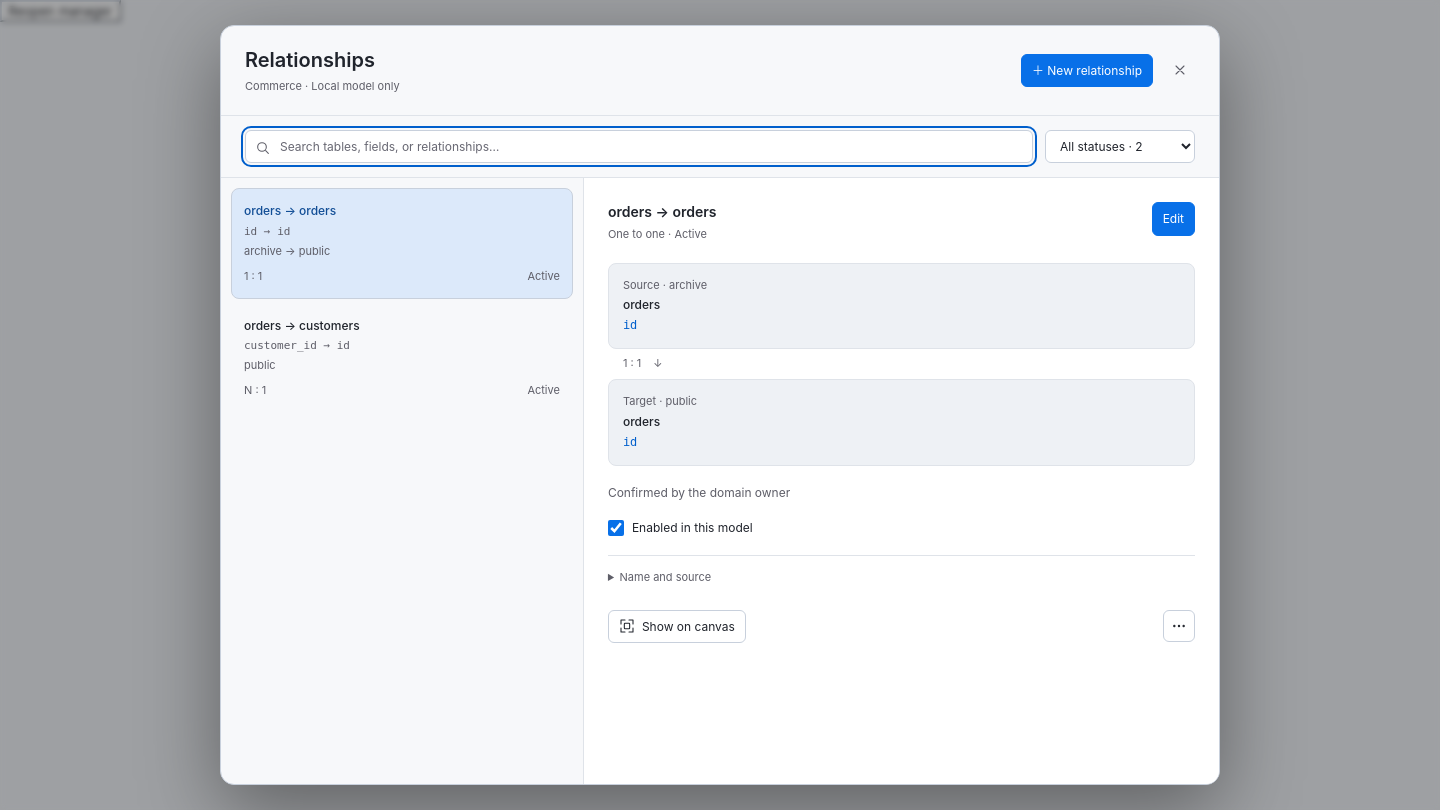
Test case: RelationshipManager › retains the form after save errors and permits retry
The image size is (1440, 810).
What coordinates should you click on to do the following:
click the button "Edit"
I would click on:
 (1173, 219)
Its box is [1152,202,1195,236].
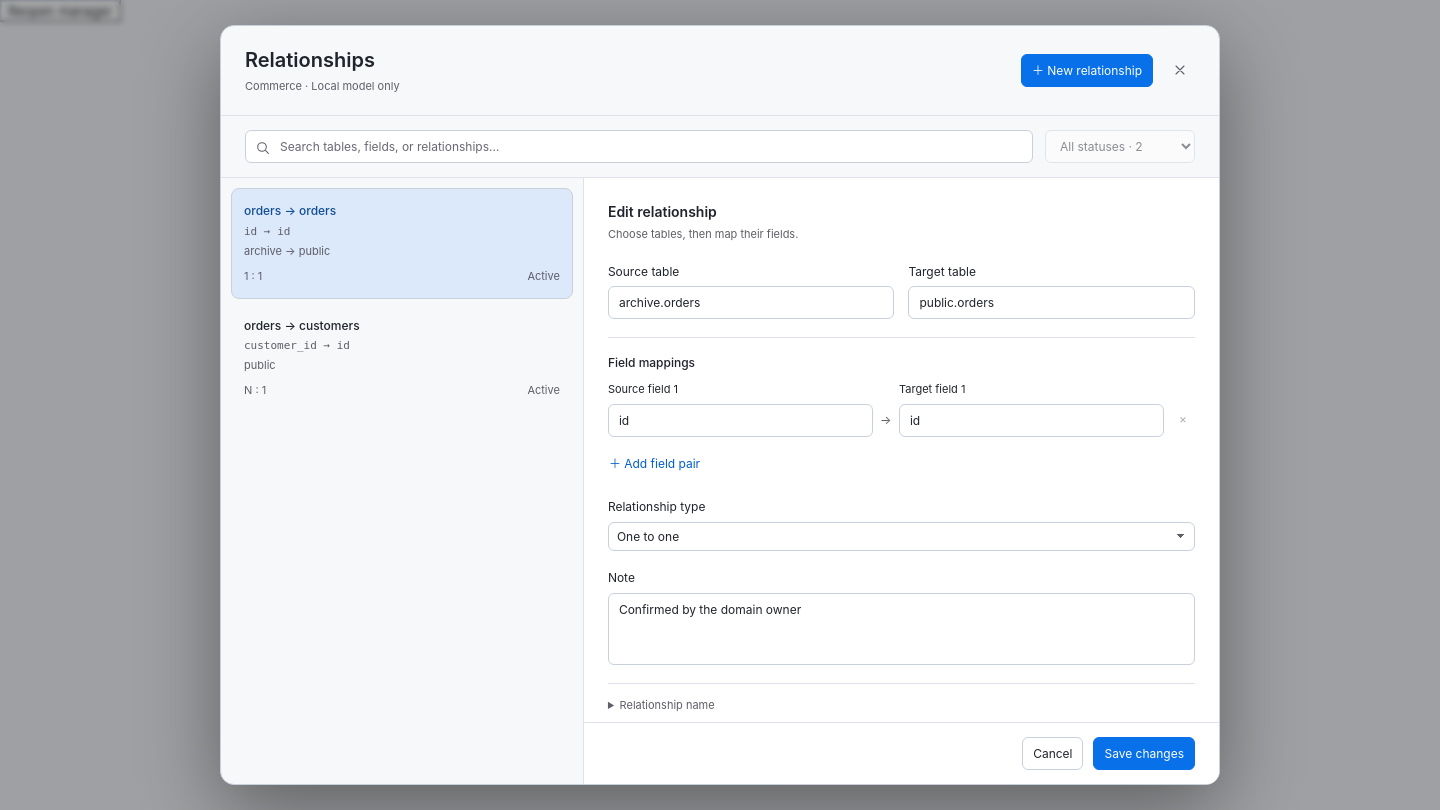
What coordinates should you click on to do the following:
click the button "Save changes"
I would click on:
 (1144, 753)
Its box is [1094,737,1195,770].
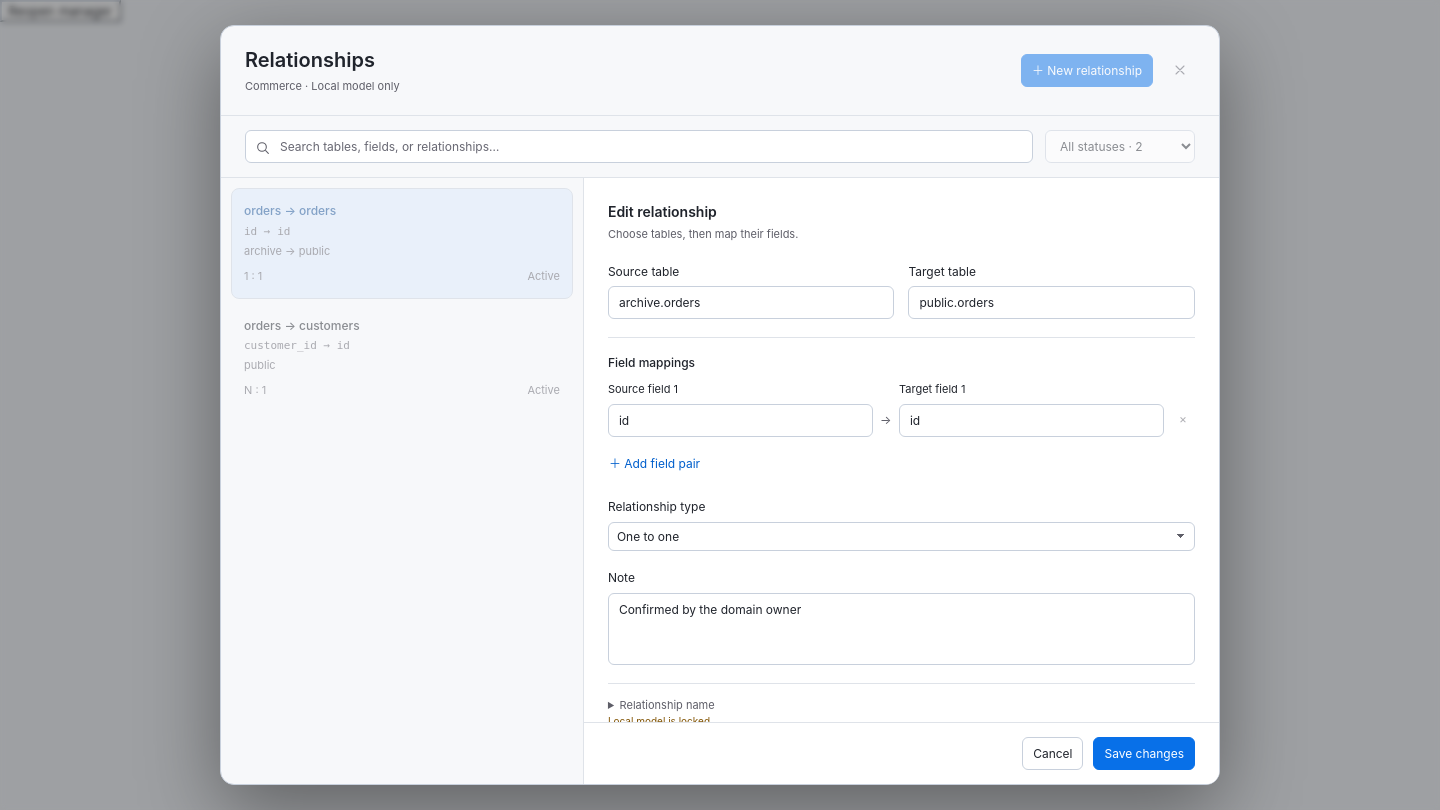
Check: the message reads "Local model is locked", box [608,714,710,726]
What coordinates should you click on to do the following:
click the button "Save changes"
I would click on:
 (1144, 753)
Its box is [1094,737,1195,770].
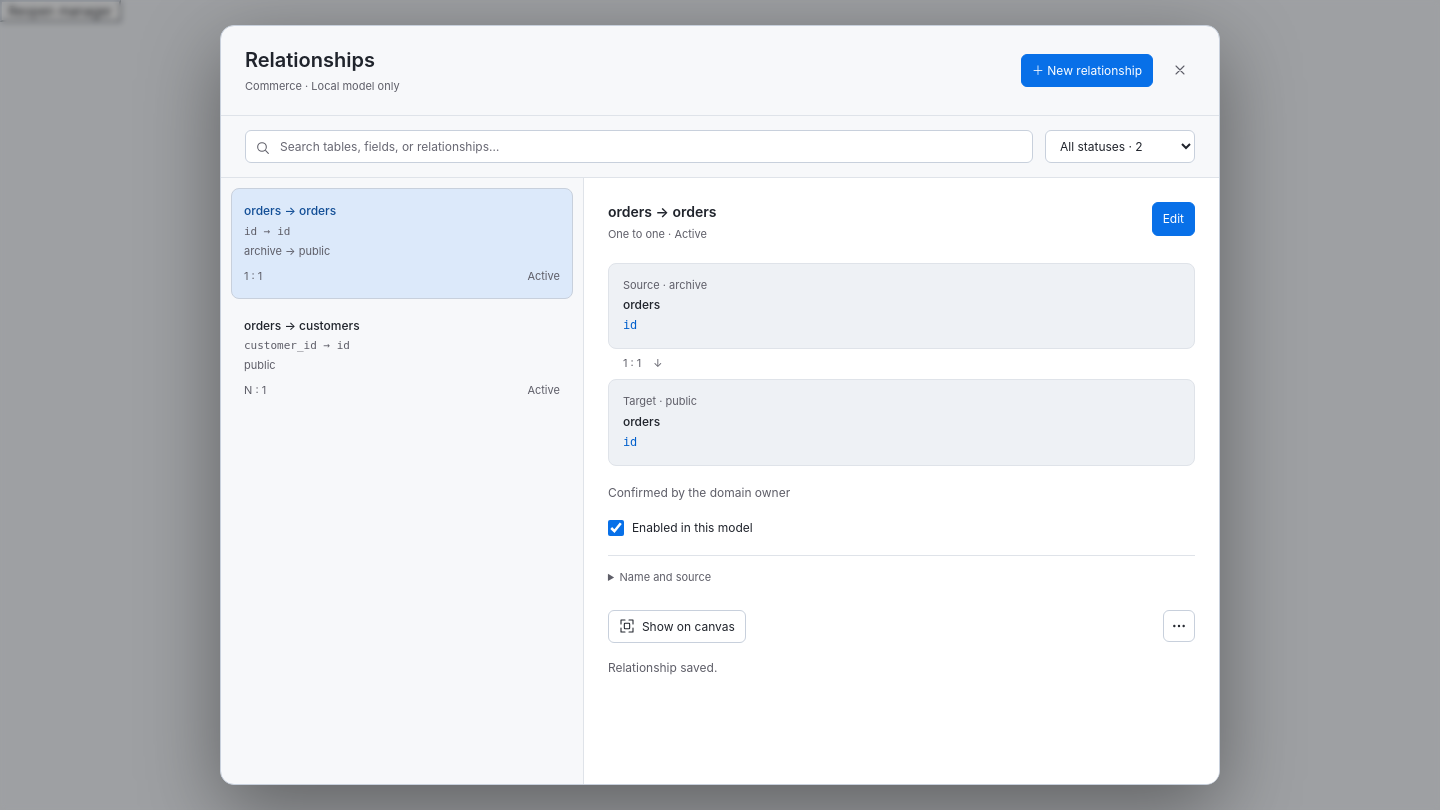
Check: the text "Relationship saved." is shown, box [608,660,717,675]
